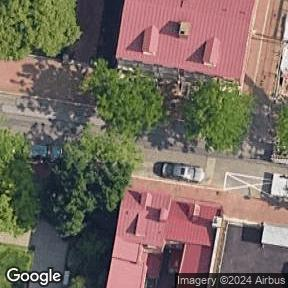vegetation: (21, 51, 174, 251), (186, 77, 254, 153), (0, 0, 80, 59), (0, 129, 36, 234), (68, 228, 114, 282)
